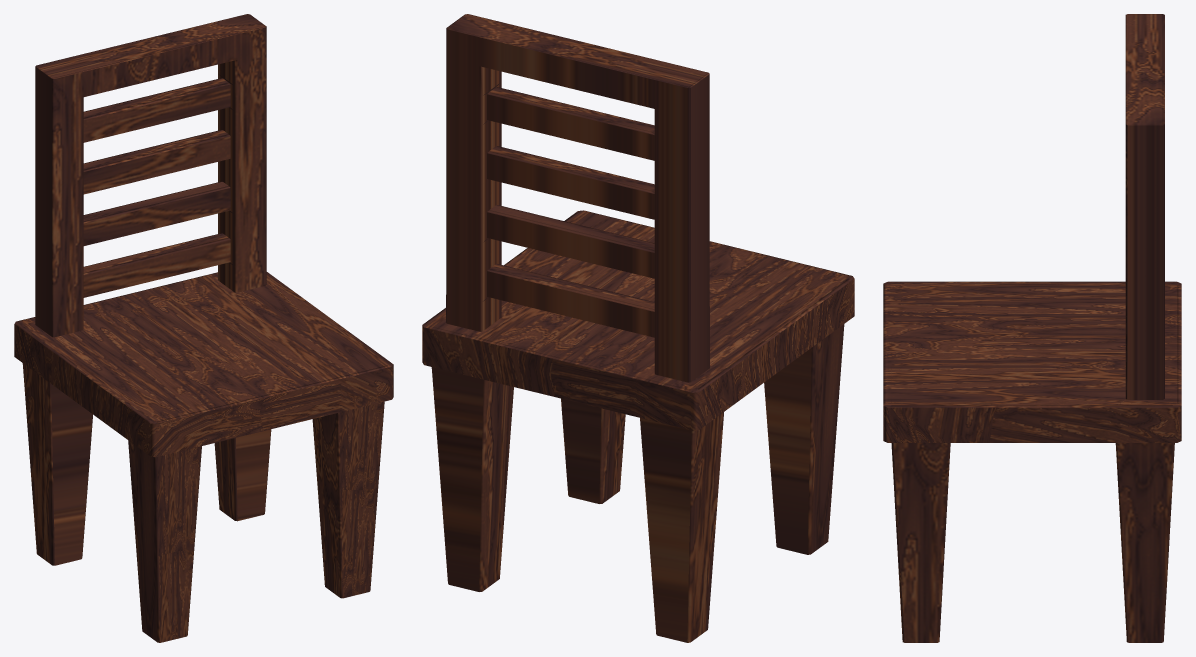
File: Chair.fbx
The picture shows the model from 3 angles, left to right: view 1: azimuth 30°, elevation 25°; view 2: azimuth 150°, elevation 25°; view 3: azimuth 270°, elevation 25°; orthographic projection. The views are drawn at different scales.
Parts seen in each view (by area): view 1: chair1; view 2: chair1; view 3: chair1.
Part boxes in pixels (bbox=[...]): chair1: bbox=[14, 14, 393, 642]; chair1: bbox=[422, 14, 854, 642]; chair1: bbox=[883, 14, 1181, 642].
Size of the model in its own units: 83.6 by 160 by 83.6.
1 material, 1 textured.
